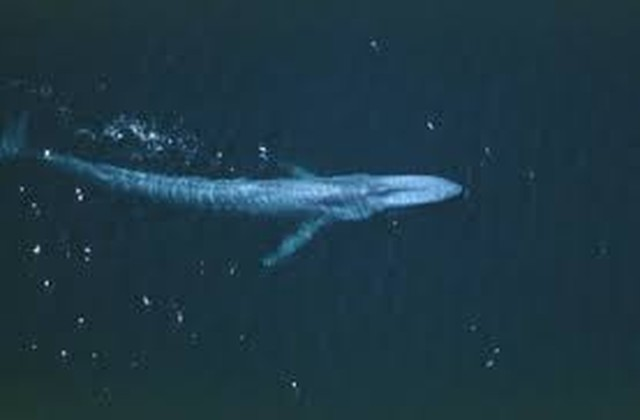whale: (3, 100, 473, 276)
